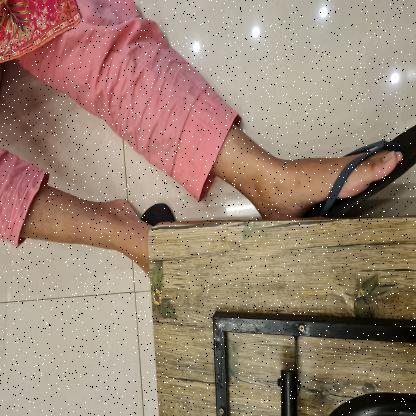leg: (218, 118, 406, 220), (20, 181, 152, 278)
